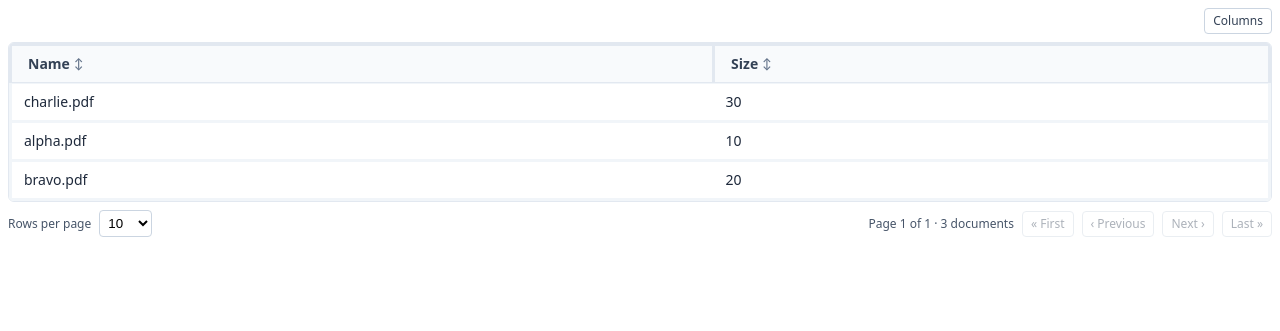
Test case: DataTable › does not let a non-hideable column be switched off
Click the button "Columns": (1238, 21) [1204, 8, 1272, 34]
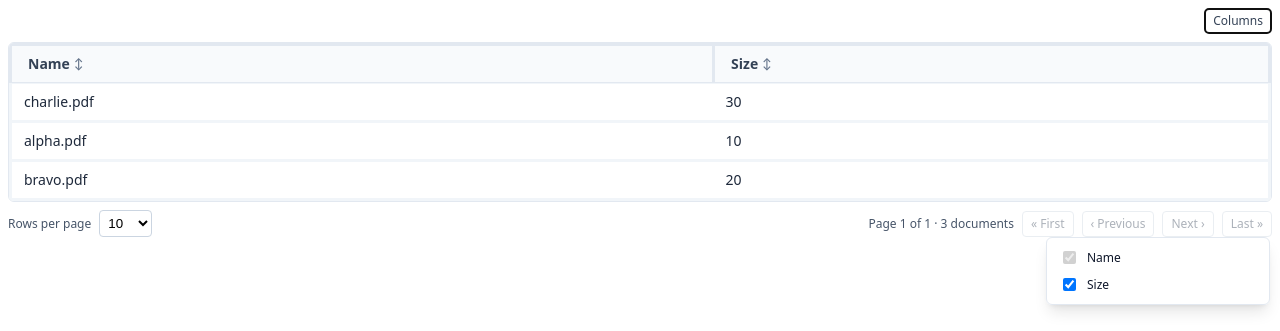
Check: the checkbox labelled "Name" is disabled, box [1063, 251, 1076, 264]
